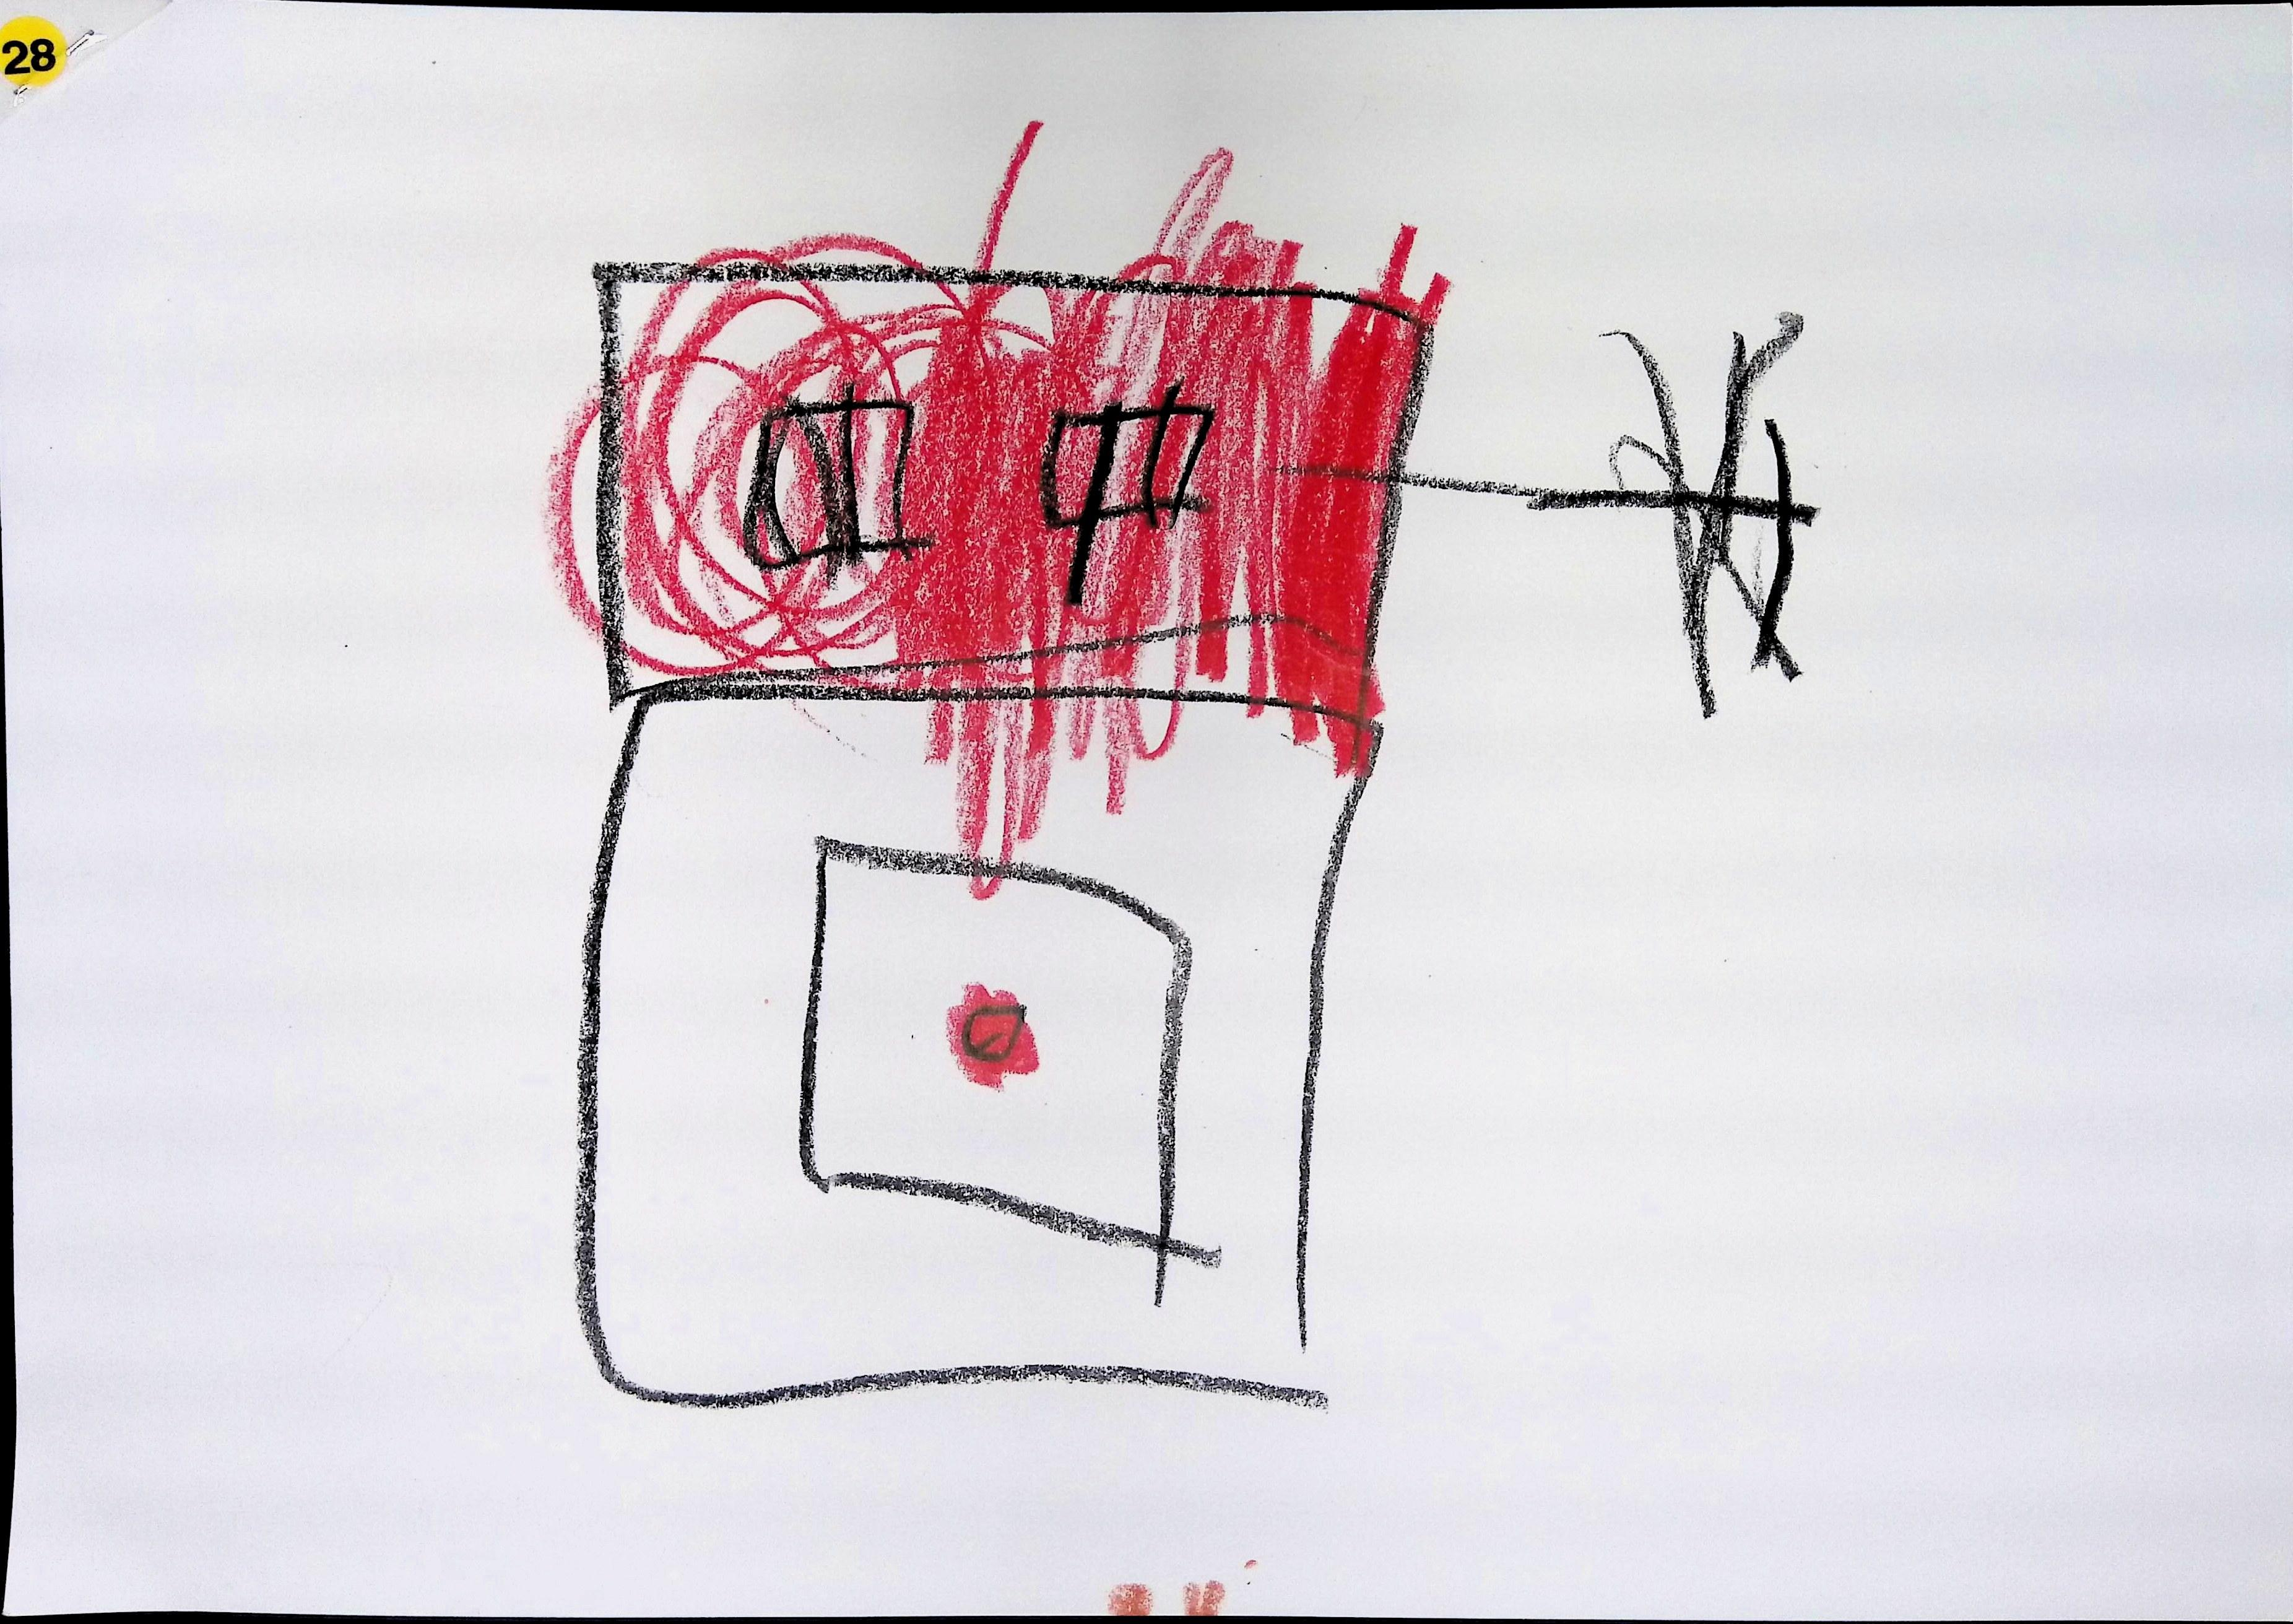house: (564, 202, 1423, 1418)
wall: (592, 652, 1348, 1388)
window: (794, 786, 1214, 1267), (747, 392, 924, 568), (1031, 380, 1225, 522)
